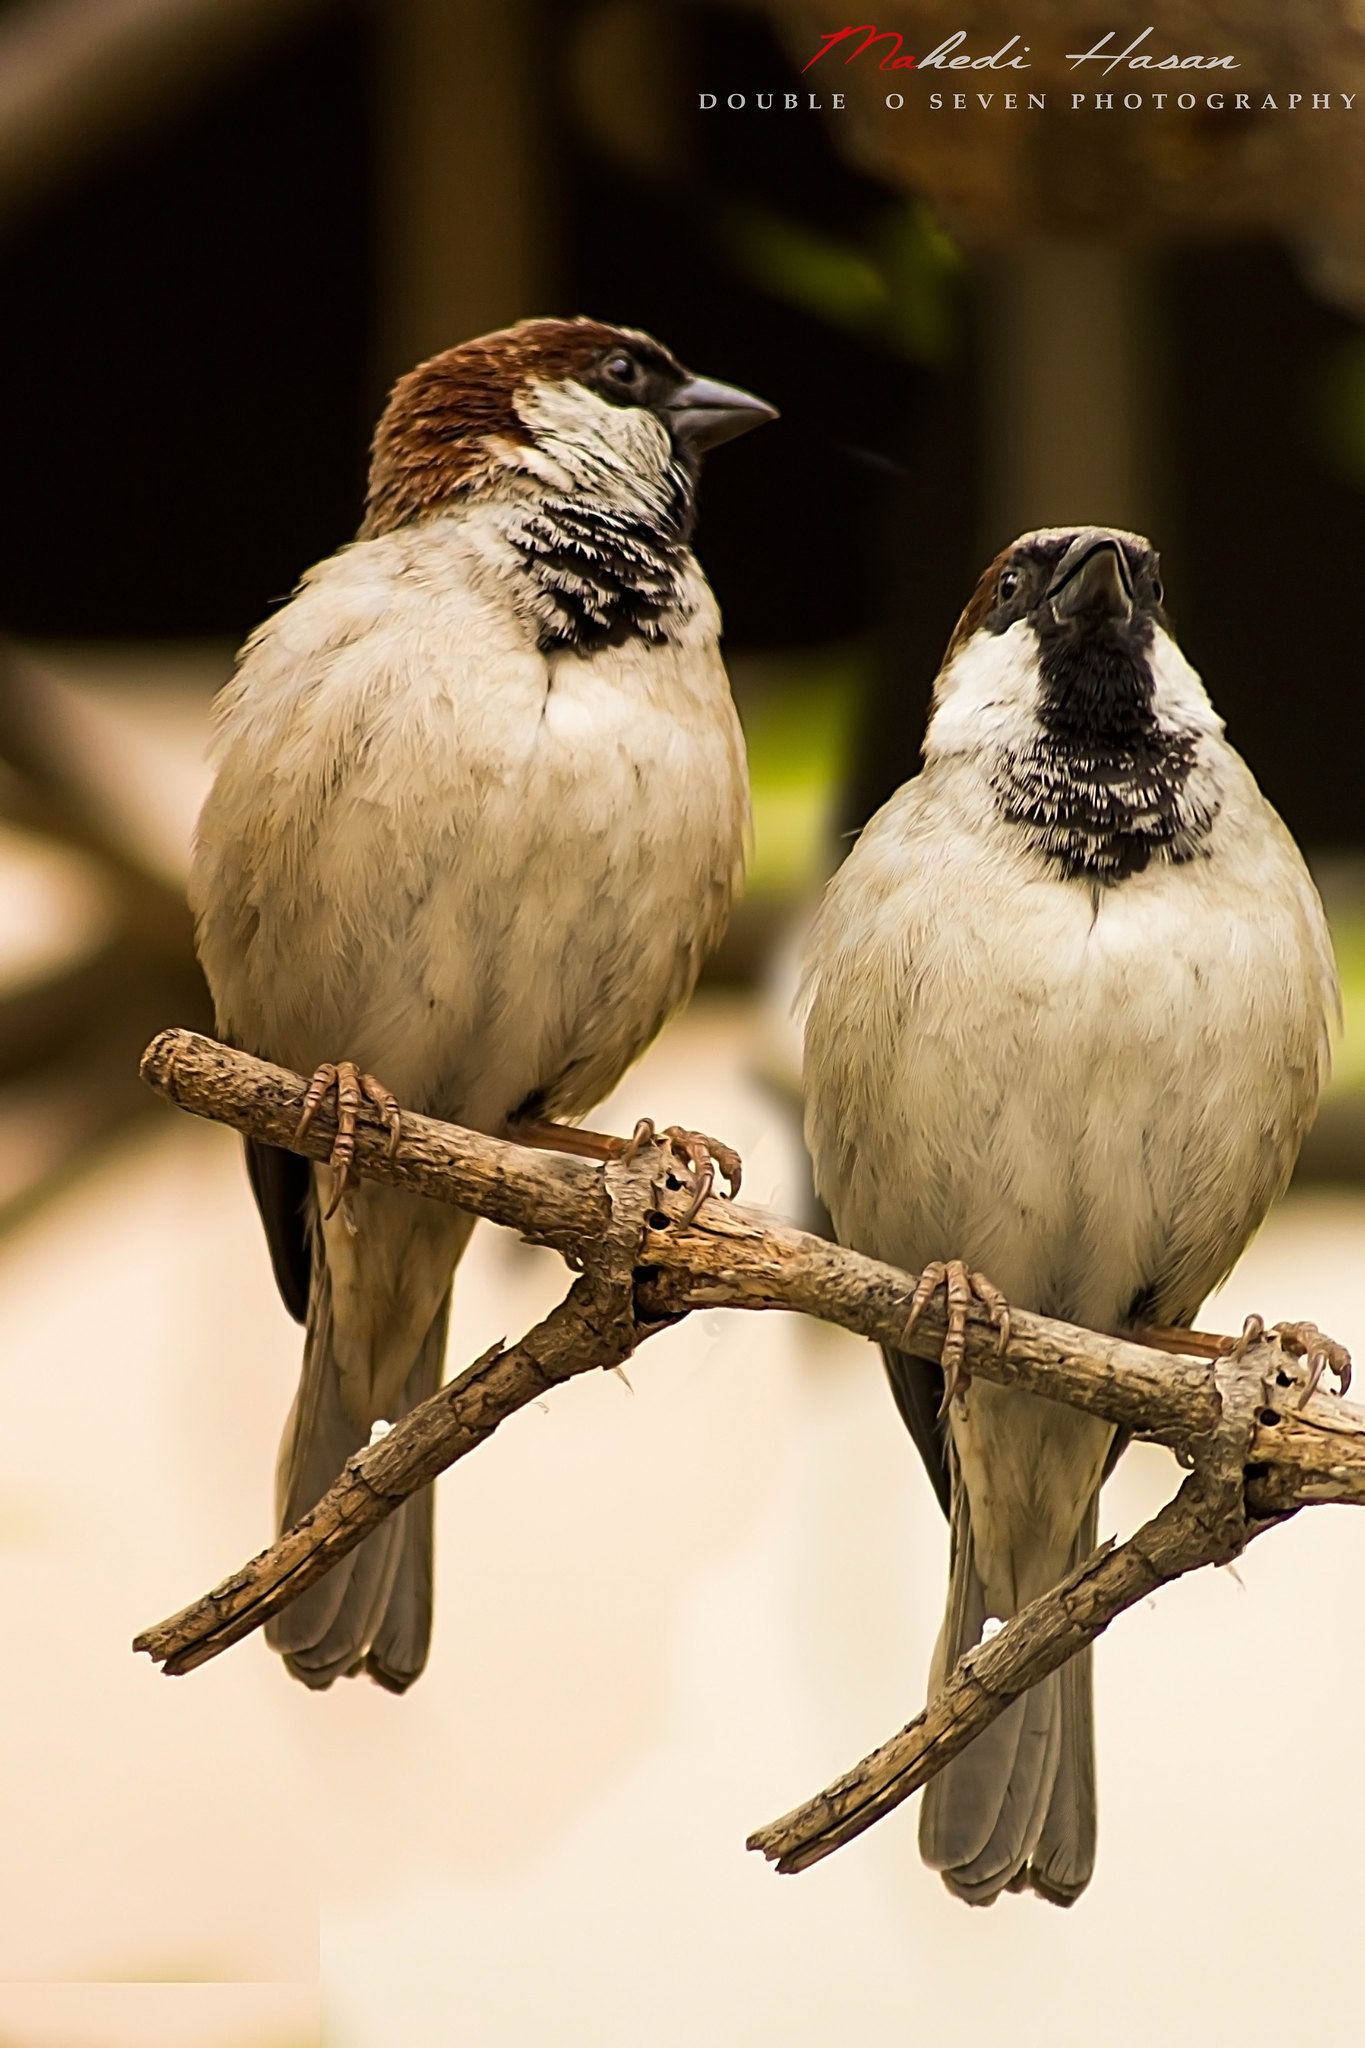bird: (200, 285, 772, 1702), (814, 506, 1322, 1938)
